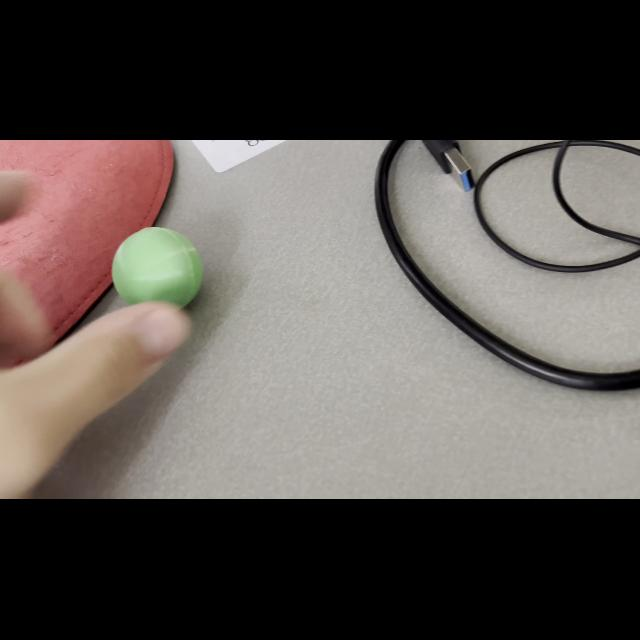objects: (108, 221, 208, 309)
